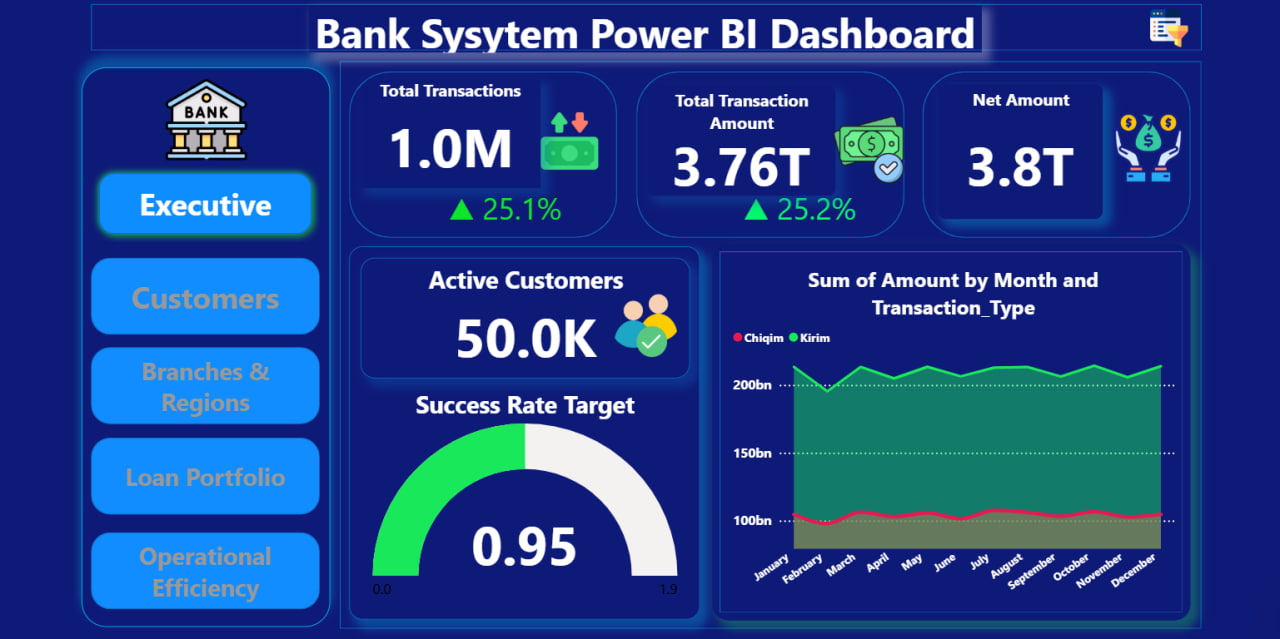

What the dashboard file says about the page in this screenshot:
{"tool":"powerbi","page":{"name":"Executive","canvas":[1280,720],"ordinal":0},"visuals":[{"type":"shape","box":[19.9,8.7,1244,52.2],"z":0},{"type":"shape","box":[298.8,72.5,965,636.2],"z":1000},{"type":"shape","box":[951.2,83.8,300,186.2],"z":2000},{"type":"image","box":[846.2,118.8,80,103.8],"z":3000},{"type":"card","title":"Net Amount","fields":{"Values":["Table.Net Amount"]},"box":[968.8,97.5,183.8,151.2],"z":4000},{"type":"shape","box":[631.2,83.8,300,186.2],"z":5000},{"type":"image","box":[1156.2,123.8,95,91.2],"z":6000},{"type":"cardVisual","fields":{"Data":["Table.Total Transaction Value YoY with Icon"]},"box":[733.8,195,172.5,75],"z":7000},{"type":"card","title":"Total Transaction Amount","fields":{"Values":["Table.Total Transaction Amount"]},"box":[642.5,98.8,211.2,123.8],"z":8000},{"type":"image","box":[846.2,123.8,88.8,96.2],"z":9000},{"type":"shape","box":[308.8,83.8,300,186.2],"z":10000},{"type":"image","box":[511.2,120,87.5,83.8],"z":11000},{"type":"card","title":"Total Transactions","fields":{"Values":["Table.Total Transactions"]},"box":[321.2,92.5,201.2,122.5],"z":12000},{"type":"cardVisual","fields":{"Data":["Table.Total Transactions YoY Icon"]},"box":[403.8,193.8,170,76.2],"z":13000},{"type":"shape","box":[308.8,280,392.5,418.8],"z":14000},{"type":"card","title":"Active Customers","fields":{"Values":["Table.Active Customers"]},"box":[321.2,292.5,368.8,135],"z":15000},{"type":"gauge","fields":{"Y":["Table.Success Rate Target"]},"box":[321.2,438.8,368.8,247.5],"z":16000},{"type":"shape","box":[716.2,277.5,535,421.2],"z":17000},{"type":"lineChart","fields":{"Category":["Dim_Date.Full_Date.Variation.Date Hierarchy.Month"],"Y":["Sum(Fact_Transactions.Amount)"],"Series":["Fact_Transactions.Transaction_Type"]},"box":[733.8,301.2,505,385],"z":18000},{"type":"image","box":[598.8,328.8,83.8,80],"z":19000},{"type":"image","box":[1173.8,8.8,106.2,52.5],"z":20000},{"type":"shape","box":[8.8,78.8,278.8,627.5],"z":22000},{"type":"textbox","title":"Bank Sysytem Power BI Dashboard ","box":[263.8,8.8,753.8,53.8],"z":23000},{"type":"shape","box":[20,188.8,256.2,86.2],"z":24000},{"type":"shape","box":[20,292.5,256.2,86.2],"z":25000},{"type":"shape","box":[20,392.5,256.2,86.2],"z":26000},{"type":"shape","box":[20,493.8,256.2,86.2],"z":27000},{"type":"shape","box":[20,600,256.2,86.2],"z":28000},{"type":"image","box":[87.5,87.5,123.8,101.2],"z":29000}]}

Visuals, with their boxes on the page's 1280x720 design canvas (x1, y1, x2, y2). These are canvas units, not pixel positions in the 1280x639 screenshot, which may show the page scaled, cropped or inside an application window:
shape: bbox=[20, 9, 1264, 61]
shape: bbox=[299, 72, 1264, 709]
shape: bbox=[951, 84, 1251, 270]
image: bbox=[846, 119, 926, 223]
"Net Amount" card: bbox=[969, 98, 1153, 249]
shape: bbox=[631, 84, 931, 270]
image: bbox=[1156, 124, 1251, 215]
cardVisual - Table.Total Transaction Value YoY with Icon: bbox=[734, 195, 906, 270]
"Total Transaction Amount" card: bbox=[642, 99, 854, 223]
image: bbox=[846, 124, 935, 220]
shape: bbox=[309, 84, 609, 270]
image: bbox=[511, 120, 599, 204]
"Total Transactions" card: bbox=[321, 92, 522, 215]
cardVisual - Table.Total Transactions YoY Icon: bbox=[404, 194, 574, 270]
shape: bbox=[309, 280, 701, 699]
"Active Customers" card: bbox=[321, 292, 690, 428]
gauge - Table.Success Rate Target: bbox=[321, 439, 690, 686]
shape: bbox=[716, 278, 1251, 699]
lineChart - Dim_Date.Full_Date.Variation.Date Hierarchy.Month x Sum(Fact_Transactions.Amount): bbox=[734, 301, 1239, 686]
image: bbox=[599, 329, 683, 409]
image: bbox=[1174, 9, 1280, 61]
shape: bbox=[9, 79, 288, 706]
"Bank Sysytem Power BI Dashboard " textbox: bbox=[264, 9, 1018, 63]
shape: bbox=[20, 189, 276, 275]
shape: bbox=[20, 292, 276, 379]
shape: bbox=[20, 392, 276, 479]
shape: bbox=[20, 494, 276, 580]
shape: bbox=[20, 600, 276, 686]
image: bbox=[88, 88, 211, 189]
